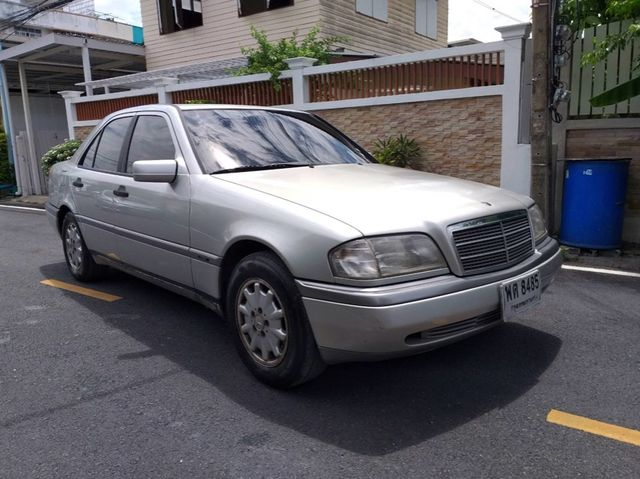sedan: (46, 100, 563, 388)
